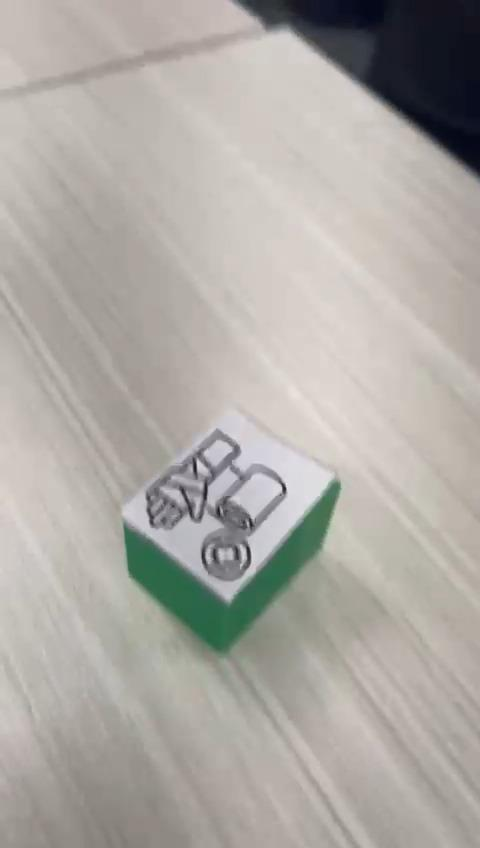Bandages: (123, 403, 341, 656)
